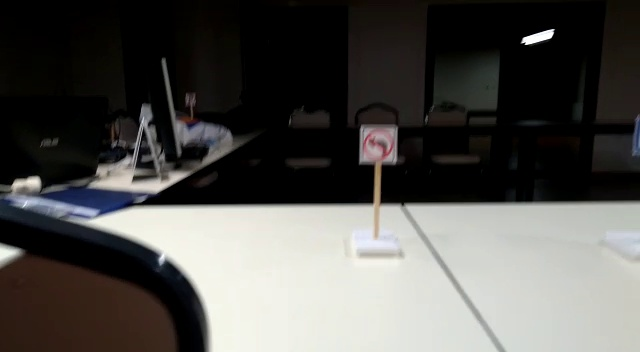sola_donulmez: (359, 124, 397, 163)
